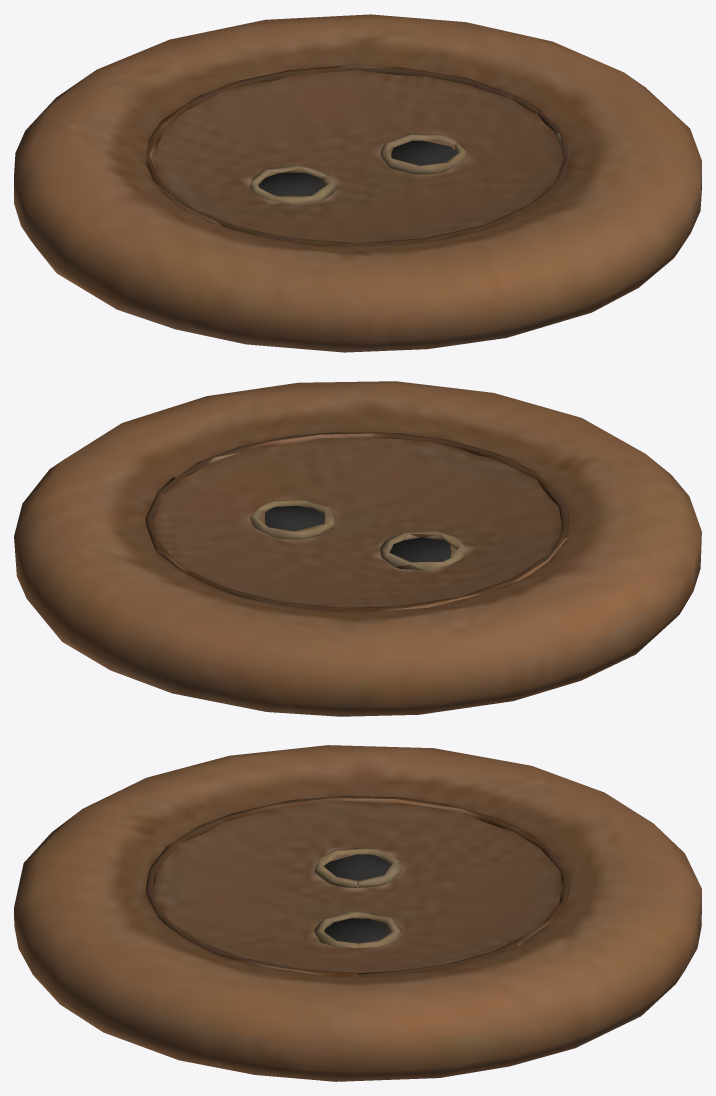
File: snow_button.glb
3 views of the same model, one above another, from view 1: azimuth 30°, elevation 25°; view 2: azimuth 150°, elevation 25°; view 3: azimuth 270°, elevation 25° (orthographic).
Parts seen in each view (by area): view 1: prop_snow_button_wood, prop_snow_button_felt; view 2: prop_snow_button_wood, prop_snow_button_felt; view 3: prop_snow_button_wood, prop_snow_button_felt.
Part boxes in pixels (left/top/right/bottom): prop_snow_button_wood: left=14, top=14, right=701, bottom=352; prop_snow_button_felt: left=258, top=140, right=457, bottom=196; prop_snow_button_wood: left=14, top=381, right=701, bottom=716; prop_snow_button_felt: left=265, top=506, right=450, bottom=562; prop_snow_button_wood: left=14, top=745, right=701, bottom=1081; prop_snow_button_felt: left=324, top=853, right=390, bottom=943.
Bounding box in the file's own units: 0.5003 × 0.0581 × 0.5003.
Materials: 2 (2 with a texture image).
